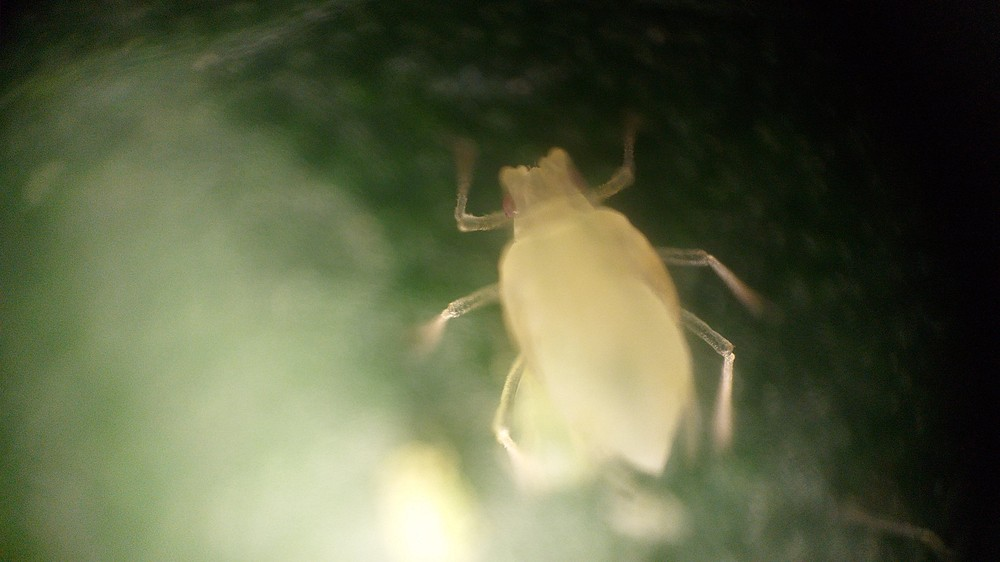Pulgon: (378, 122, 803, 507)
